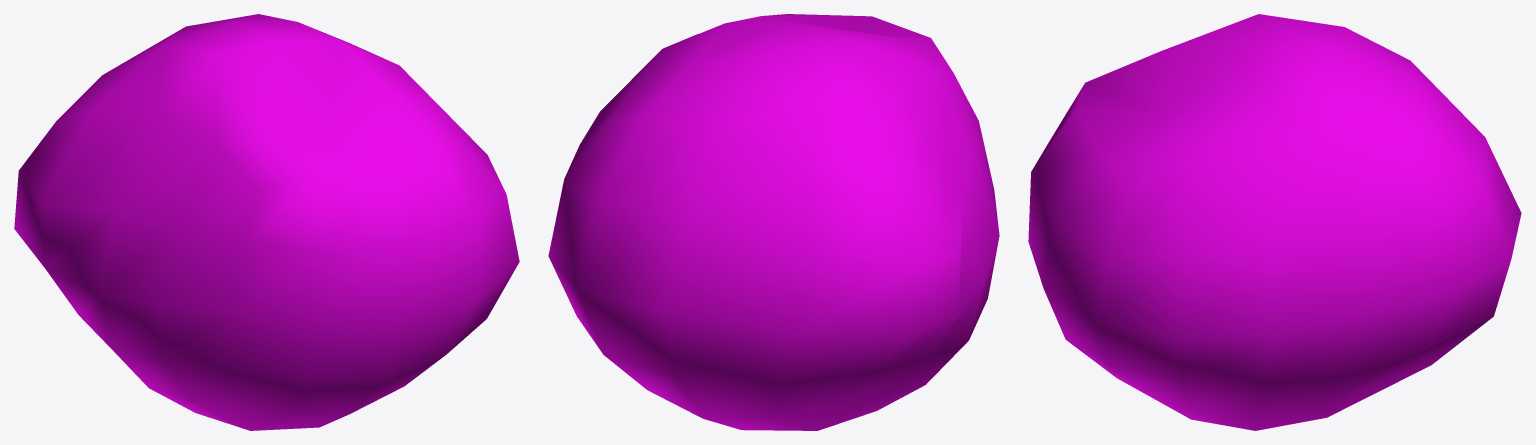
The model's file is braincoral_low.fbx.
3 renders of one model, left to right at view 1: azimuth 30°, elevation 25°; view 2: azimuth 150°, elevation 25°; view 3: azimuth 270°, elevation 25°, orthographic. The views are drawn at different scales.
Parts seen in each view (by area): view 1: brain_coral_2_low; view 2: brain_coral_2_low; view 3: brain_coral_2_low.
Part boxes in pixels (left/top/right/bottom): brain_coral_2_low: left=14, top=14, right=519, bottom=430; brain_coral_2_low: left=548, top=14, right=999, bottom=430; brain_coral_2_low: left=1028, top=14, right=1521, bottom=430.
Size of the model in its own units: 50.49 by 43.16 by 54.73.
